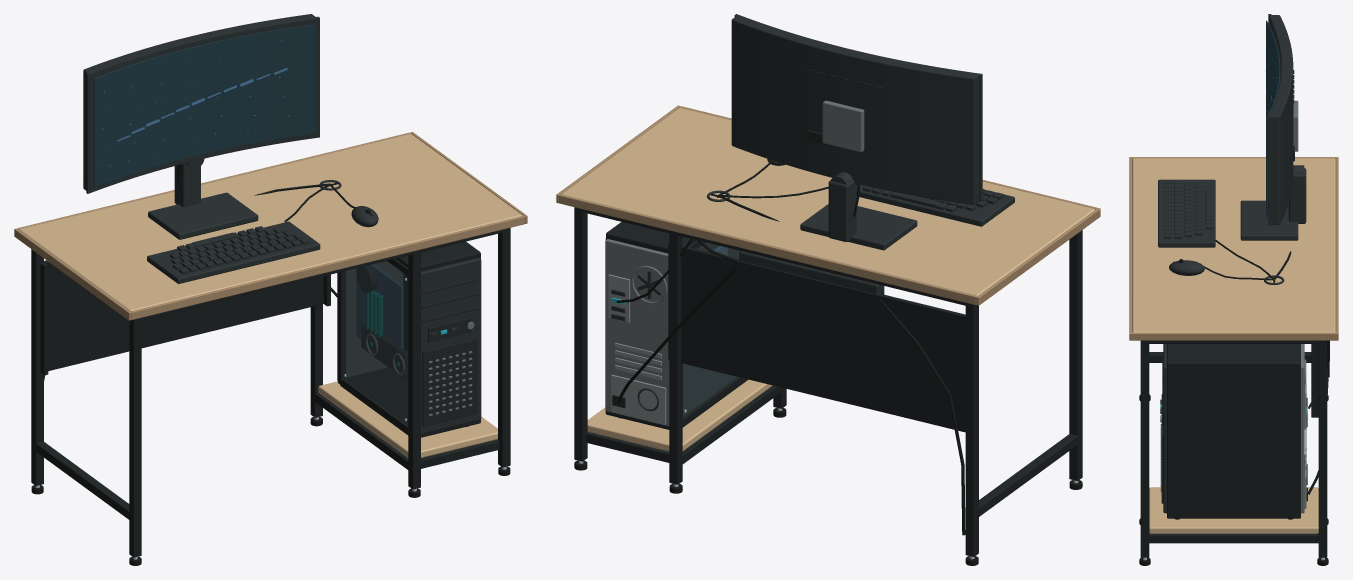
File: gpu-analysis-workstation.glb
3 renders of one model, left to right at view 1: azimuth 30°, elevation 25°; view 2: azimuth 150°, elevation 25°; view 3: azimuth 270°, elevation 25°, orthographic. The views are drawn at different scales.
Visible parts, largest first — view 1: Runtime batch - Sealed light maple laminate, Runtime batch - Fine black structural powder coat, Runtime batch - Inactive blue-black display glass, Runtime batch - Functional graphite polymer, Runtime batch - Smoked tempered computer side panel, Runtime batch - Light maple edge band, Runtime batch - Casework seam shadow, Runtime batch - Medium instrument grey enamel, Runtime batch - Restrained instrument blue, Runtime batch - Black leveling-foot rubber, Runtime batch - LabSpace instrument teal; view 2: Runtime batch - Fine black structural powder coat, Runtime batch - Functional graphite polymer, Runtime batch - Sealed light maple laminate, Runtime batch - Medium instrument grey enamel, Runtime batch - Light maple edge band, Runtime batch - Cool laboratory grey polymer, Runtime batch - Black leveling-foot rubber, Runtime batch - Smoked tempered computer side panel; view 3: Runtime batch - Fine black structural powder coat, Runtime batch - Sealed light maple laminate, Runtime batch - Functional graphite polymer, Runtime batch - Light maple edge band, Runtime batch - Inactive blue-black display glass, Runtime batch - Medium instrument grey enamel, Runtime batch - Black leveling-foot rubber, Runtime batch - Casework seam shadow, Runtime batch - Cool laboratory grey polymer.
Part boxes in pixels (box(x1,y1,x2,y2)): Runtime batch - Sealed light maple laminate: box(19, 134, 522, 457); Runtime batch - Fine black structural powder coat: box(31, 228, 510, 557); Runtime batch - Inactive blue-black display glass: box(94, 24, 315, 187); Runtime batch - Functional graphite polymer: box(83, 14, 481, 434); Runtime batch - Smoked tempered computer side panel: box(343, 261, 408, 425); Runtime batch - Light maple edge band: box(14, 132, 527, 320); Runtime batch - Casework seam shadow: box(368, 213, 477, 426); Runtime batch - Medium instrument grey enamel: box(346, 261, 472, 416); Runtime batch - Restrained instrument blue: box(117, 68, 403, 348); Runtime batch - Black leveling-foot rubber: box(31, 164, 510, 565); Runtime batch - LabSpace instrument teal: box(366, 290, 399, 366); Runtime batch - Fine black structural powder coat: box(574, 207, 1082, 556); Runtime batch - Functional graphite polymer: box(611, 14, 1014, 411); Runtime batch - Sealed light maple laminate: box(561, 107, 1095, 451); Runtime batch - Medium instrument grey enamel: box(605, 100, 864, 426); Runtime batch - Light maple edge band: box(556, 105, 1100, 305); Runtime batch - Cool laboratory grey polymer: box(608, 274, 666, 424); Runtime batch - Black leveling-foot rubber: box(574, 160, 1082, 565); Runtime batch - Smoked tempered computer side panel: box(683, 242, 739, 416); Runtime batch - Fine black structural powder coat: box(1140, 340, 1327, 557); Runtime batch - Sealed light maple laminate: box(1132, 158, 1335, 533); Runtime batch - Functional graphite polymer: box(1158, 14, 1307, 513); Runtime batch - Light maple edge band: box(1129, 157, 1338, 340); Runtime batch - Inactive blue-black display glass: box(1266, 20, 1280, 217); Runtime batch - Medium instrument grey enamel: box(1160, 100, 1306, 513); Runtime batch - Black leveling-foot rubber: box(1139, 240, 1329, 565); Runtime batch - Casework seam shadow: box(1161, 70, 1307, 503); Runtime batch - Cool laboratory grey polymer: box(1304, 384, 1306, 508).
Size of the model in its own units: 1.2 by 1.25 by 0.6.
